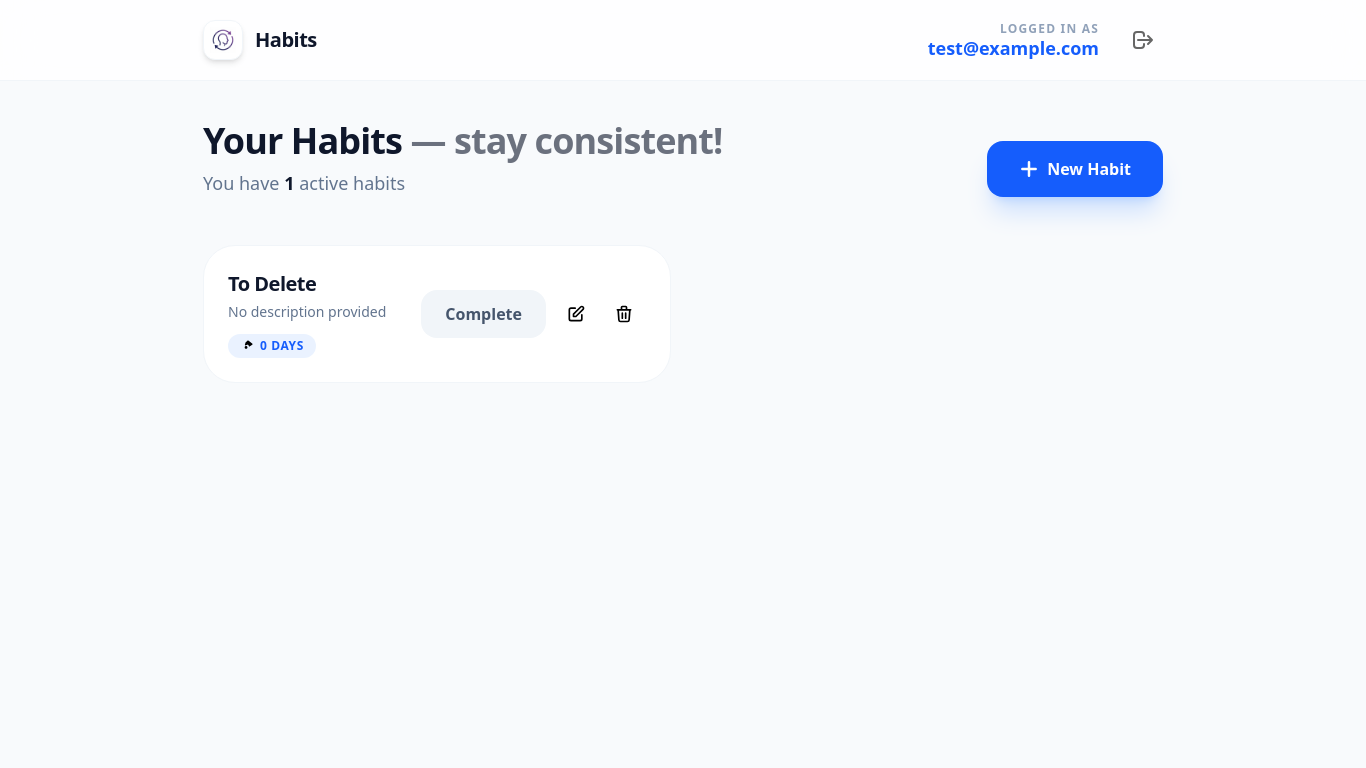
habit form › deletes a habit only after explicit confirmation
Click the button with test id "habit-delete-to-delete".
click(624, 314)  # box [602,292,646,336]
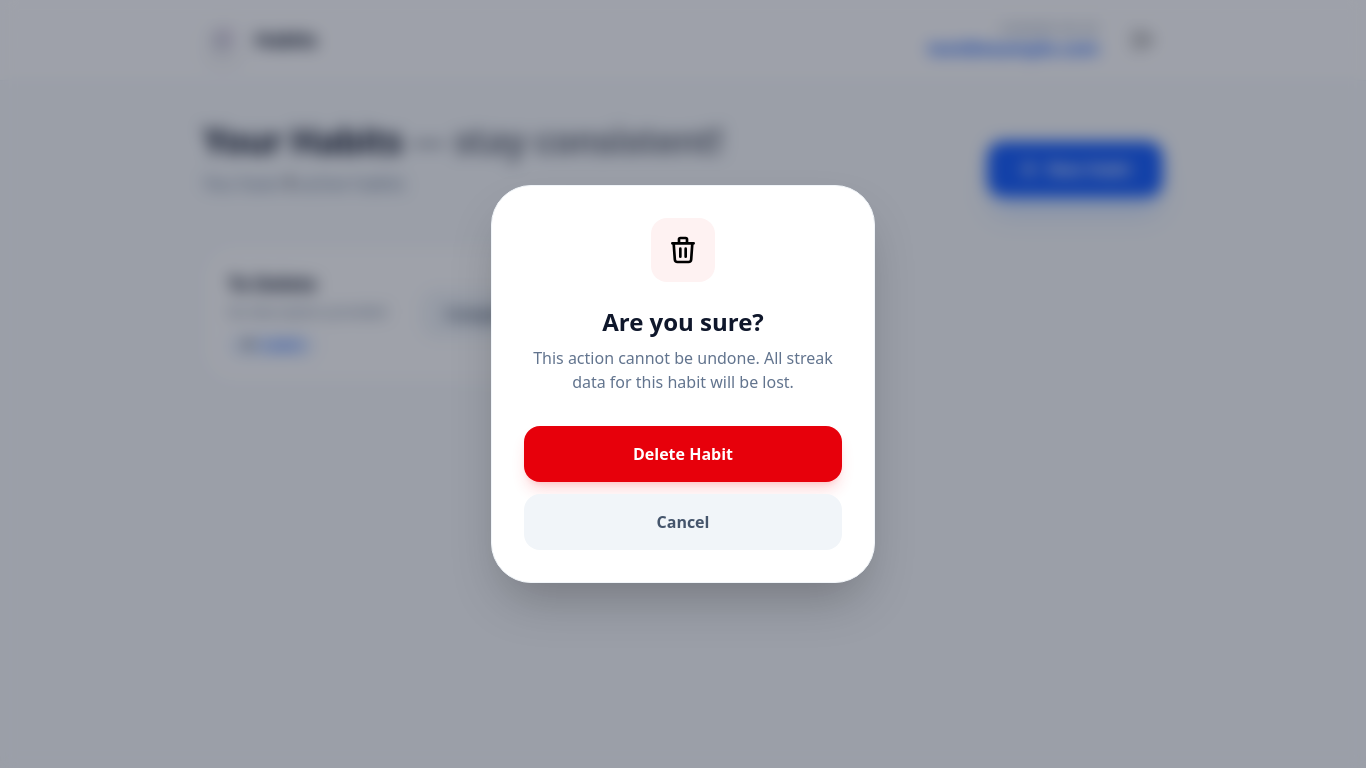
Expected: the element with test id "habit-card-to-delete" is shown, [203,245,671,383]
Click the button with test id "confirm-delete-button".
click(683, 454)  # box [524,426,842,482]
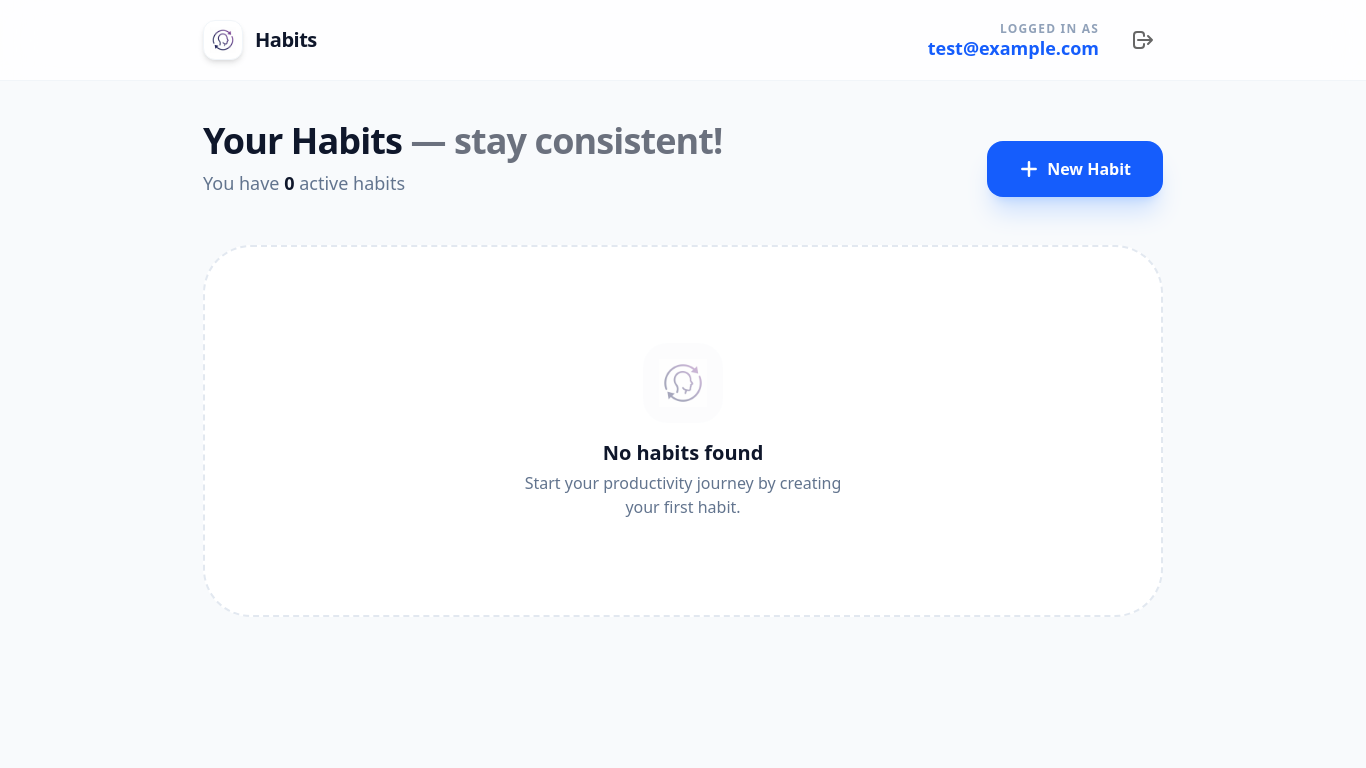
Expected: the element with test id "habit-card-to-delete" is gone
